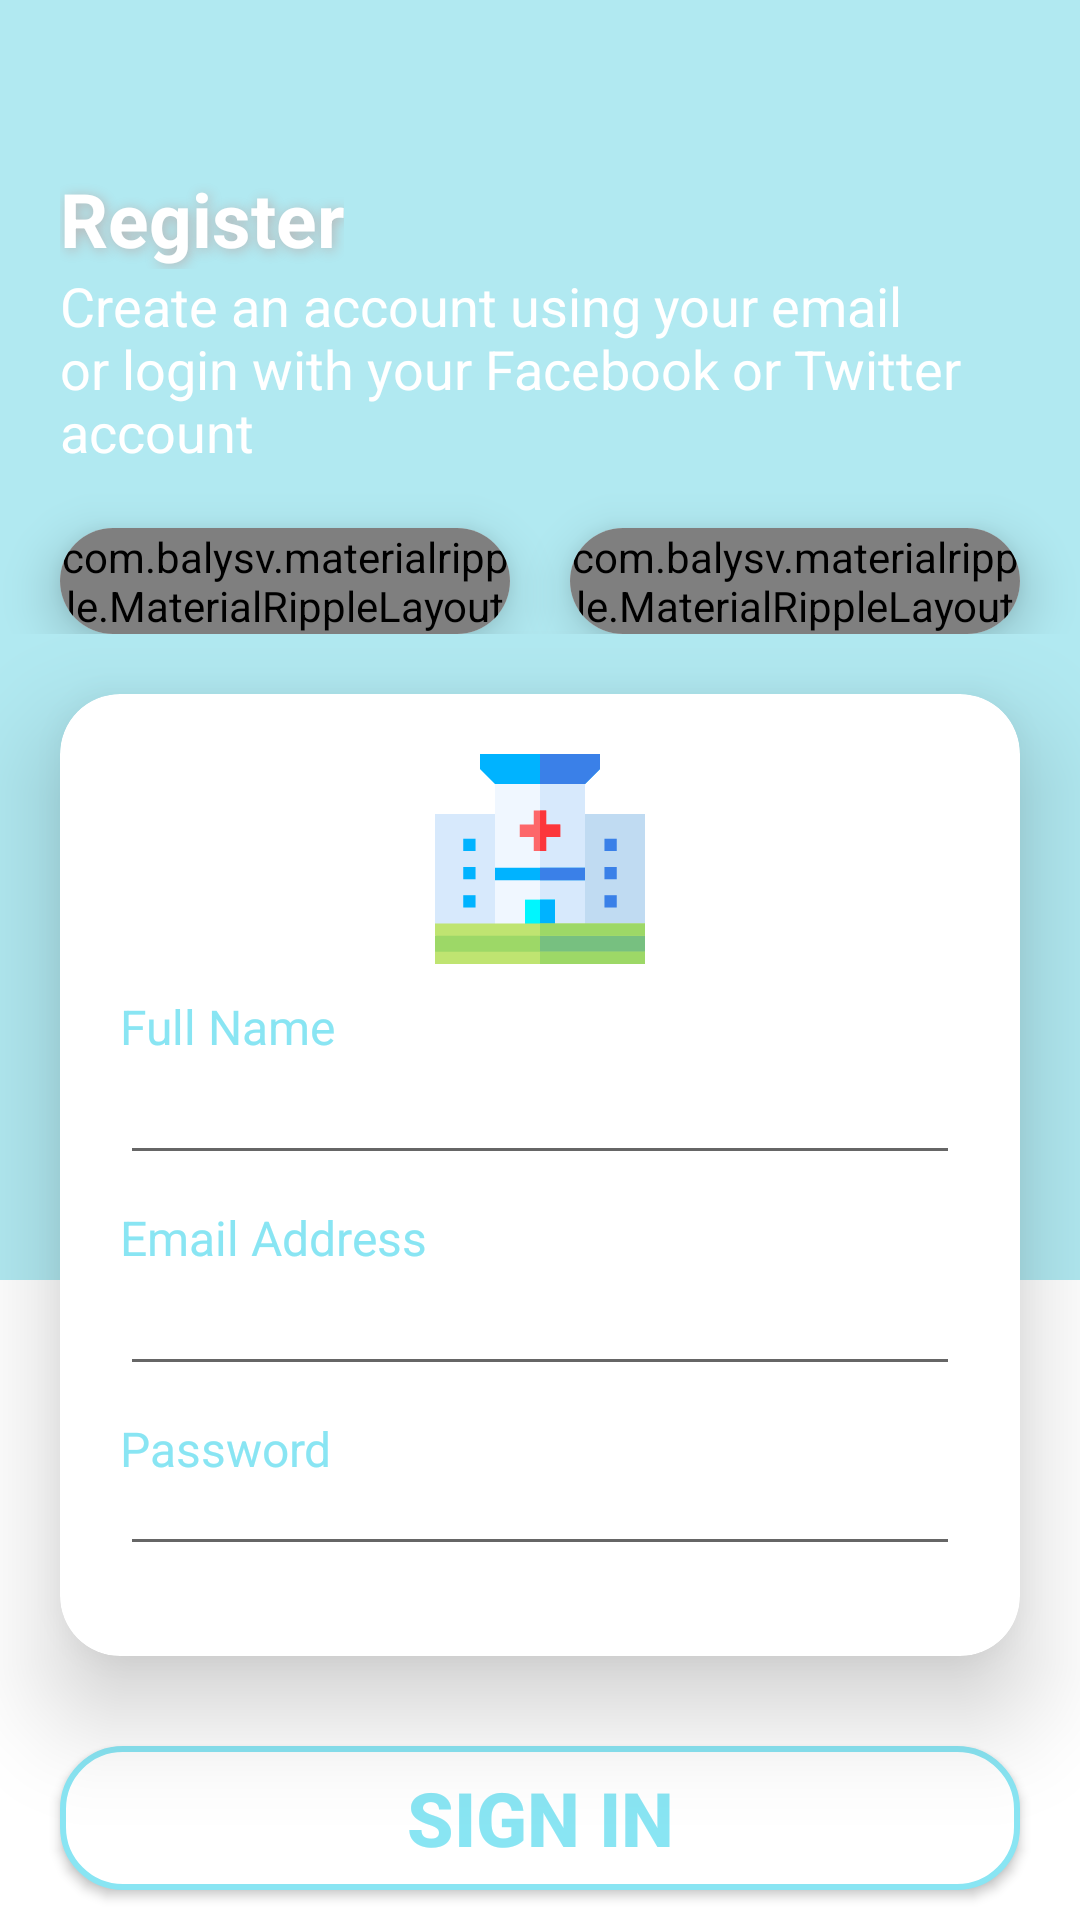

Point at icon controls on the screen. Image size 1080px×1920px, points as (x=x, y=y).
hospital: (x=540, y=859)
